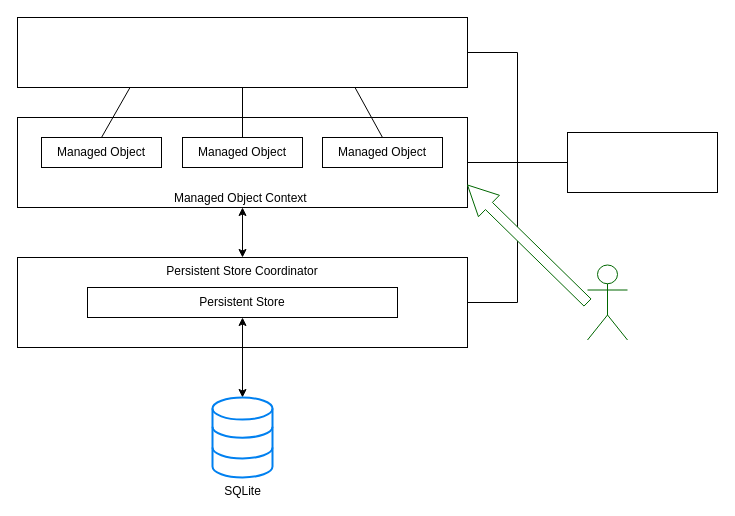
Image size: 735x516. Some labels were removed from this diagram. The centre of each missing label's shape, as x and y in pixels:
Managed Object Model: point (242, 52)
Nuestro código: point (607, 302)
Persistent Container: point (642, 162)
